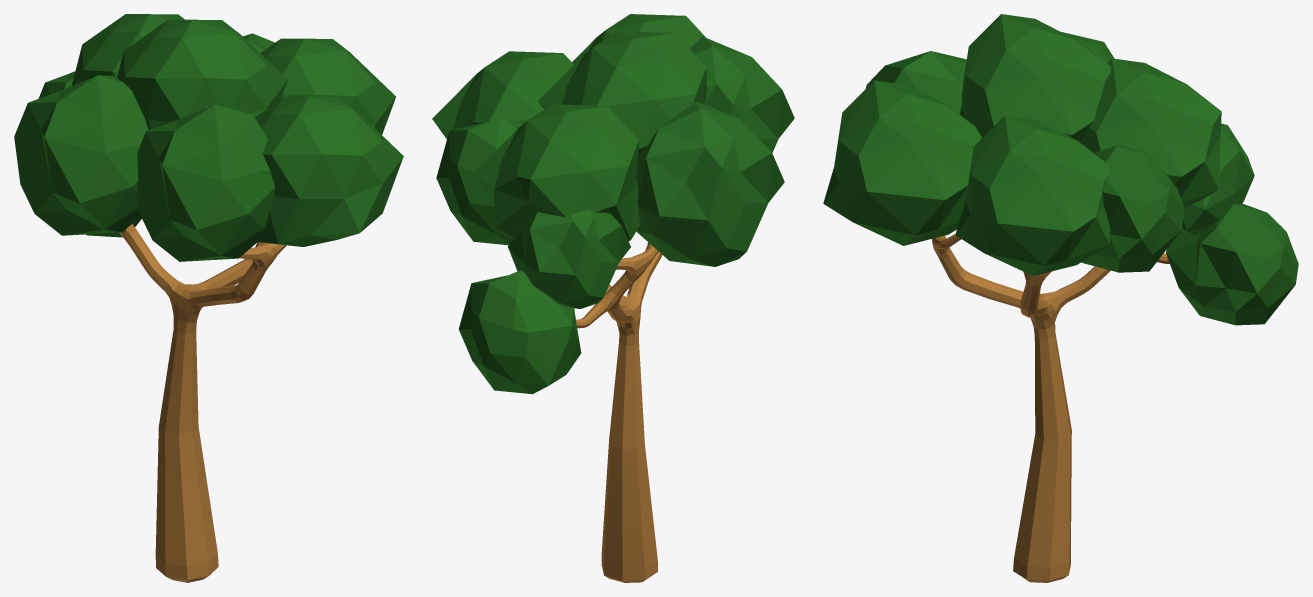
Rendered from tree.077_lev4.glb.
The picture shows the model from 3 angles, left to right: view 1: azimuth 30°, elevation 25°; view 2: azimuth 150°, elevation 25°; view 3: azimuth 270°, elevation 25°; orthographic projection. The views are drawn at different scales.
Visible parts, largest first — view 1: tree.077_lev4; view 2: tree.077_lev4; view 3: tree.077_lev4.
Part boxes in pixels (x1=…): tree.077_lev4: x1=14, y1=14, x2=403, y2=582; tree.077_lev4: x1=432, y1=14, x2=794, y2=582; tree.077_lev4: x1=823, y1=14, x2=1298, y2=582.
Bounding box in the file's own units: 0.6332 × 1 × 0.7877.
